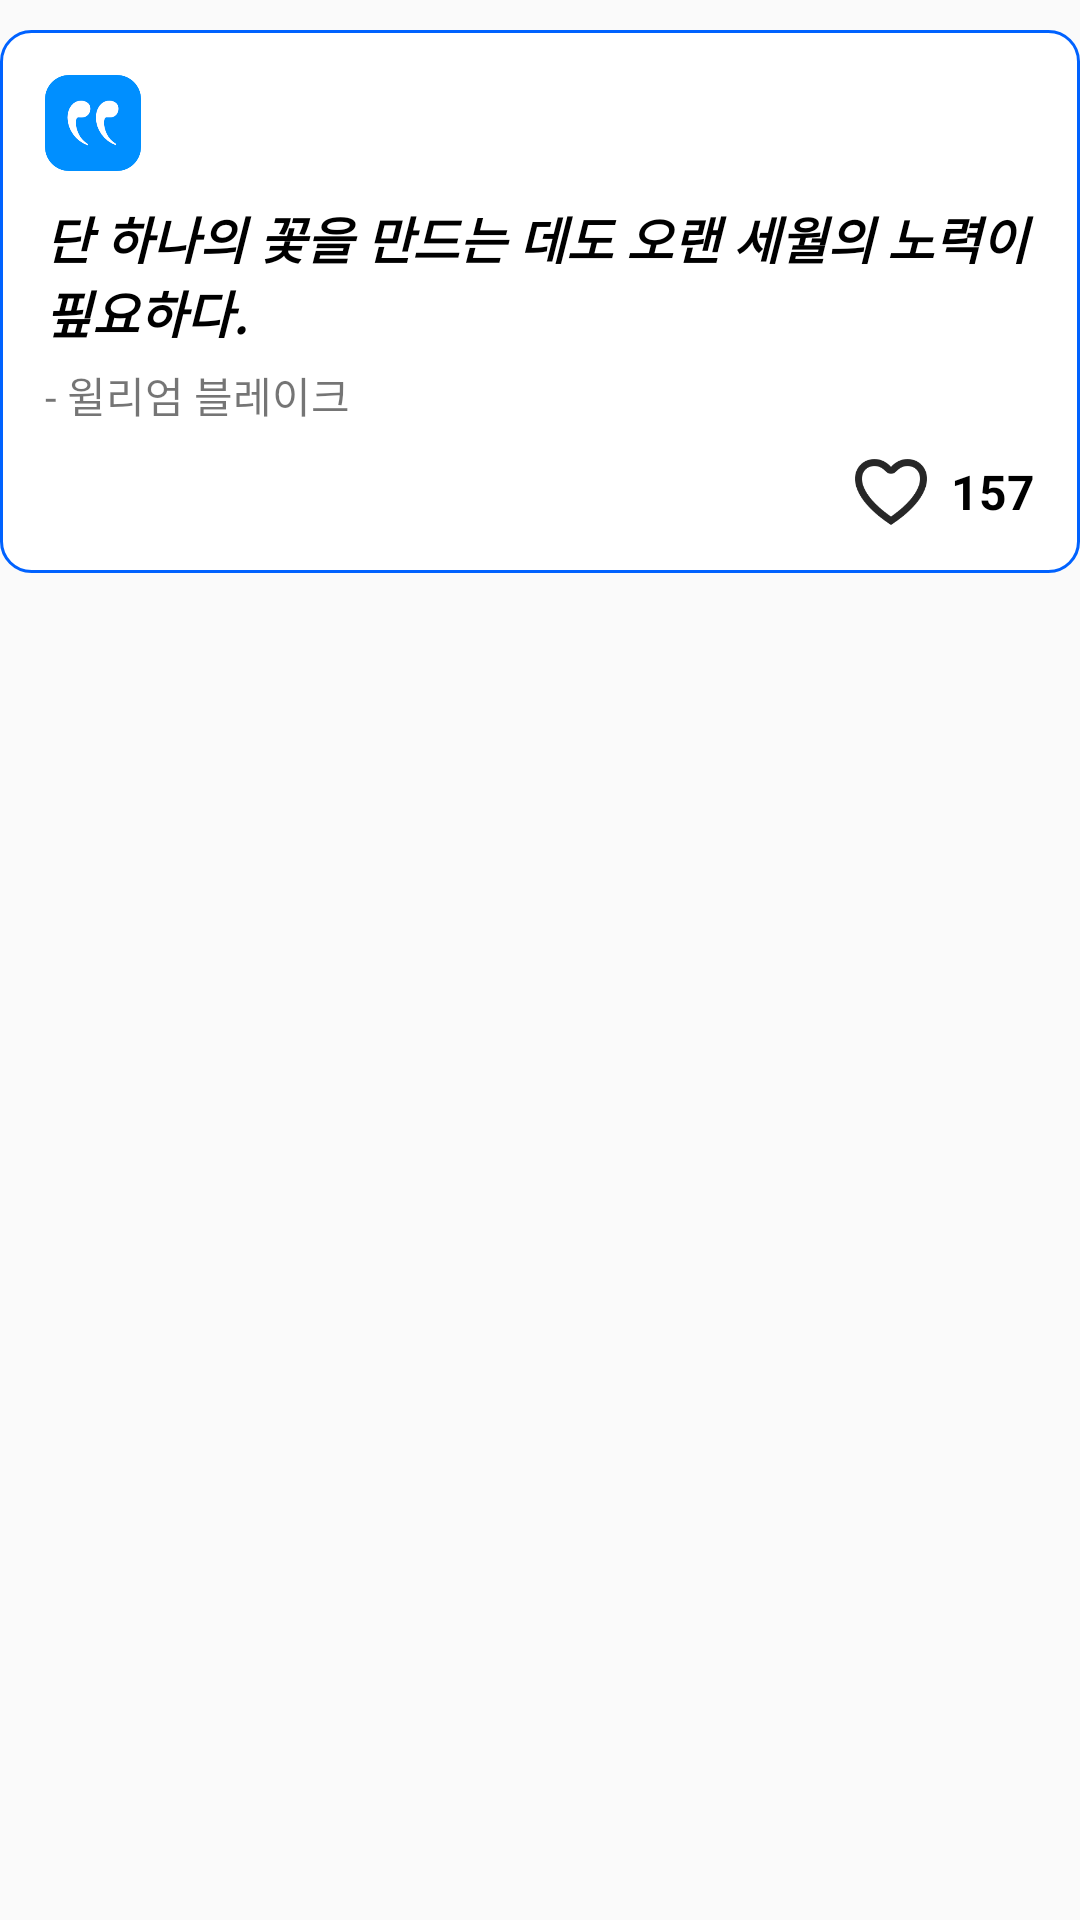

Icons on this 1080w x 1920h Android screen, each with the point to tap as (x,y):
like: (891,492)
